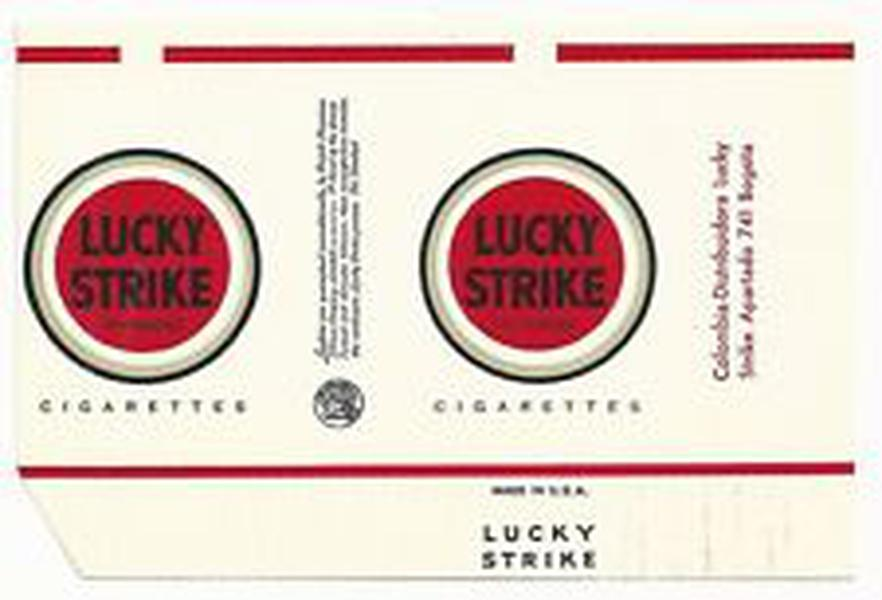lucky_strike_red: (384, 7, 690, 481), (16, 13, 292, 479)
